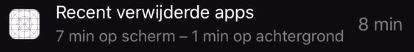name: (51, 1, 261, 25)
time: (52, 27, 97, 50), (191, 27, 232, 49)
